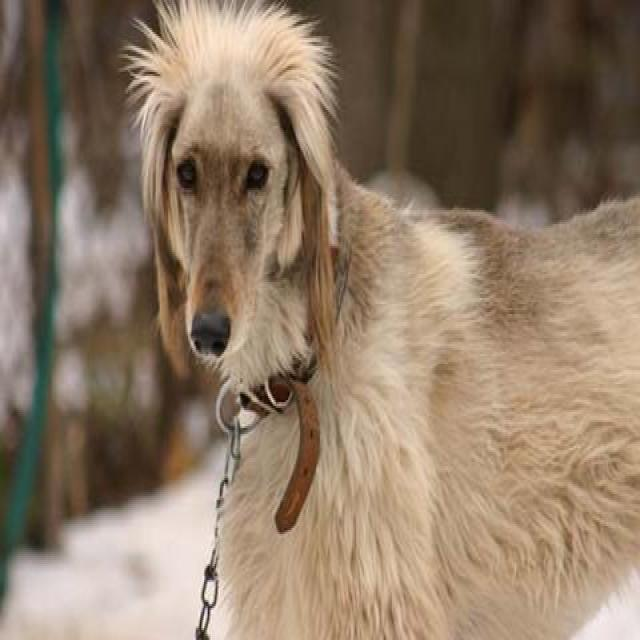saluki: (126, 0, 638, 638)
